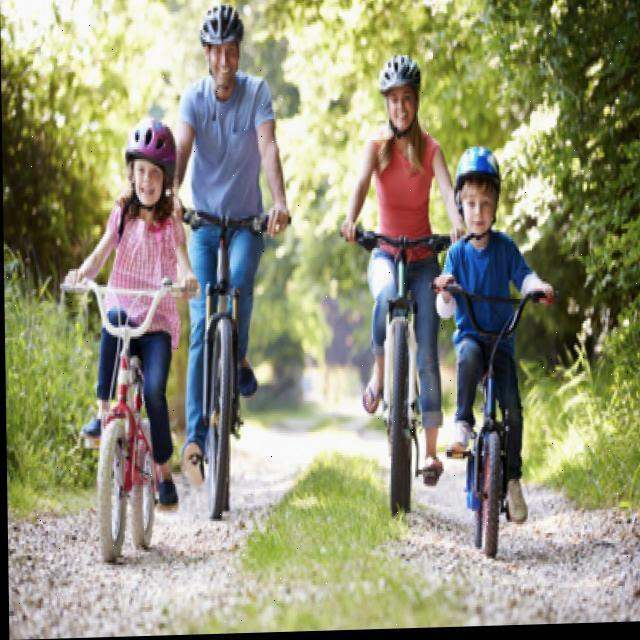Helmet: (123, 111, 179, 208), (194, 4, 254, 87), (452, 146, 504, 236), (375, 52, 424, 138)
